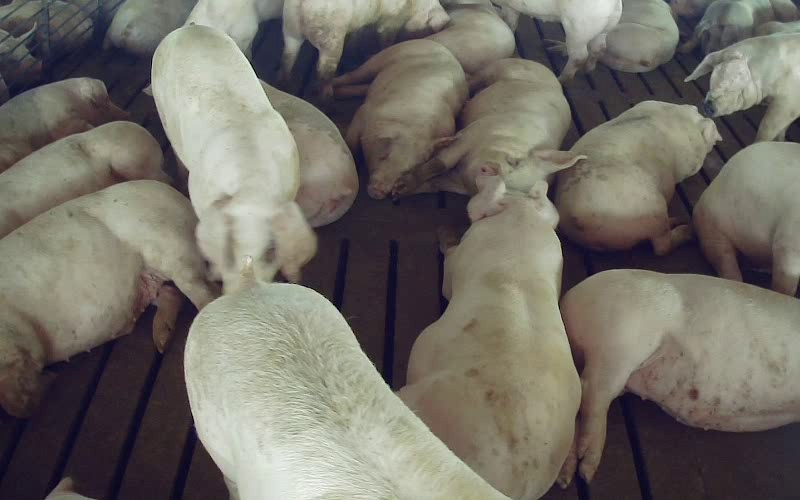pig: (185, 258, 505, 499), (399, 176, 580, 499), (560, 270, 799, 484), (0, 180, 213, 416), (152, 25, 315, 292), (394, 58, 583, 194), (555, 101, 720, 254), (327, 40, 467, 198), (0, 121, 168, 237), (693, 142, 799, 295), (282, 0, 448, 79), (685, 33, 799, 141), (0, 77, 127, 172), (492, 0, 621, 81), (679, 0, 799, 54), (428, 0, 514, 73), (599, 0, 678, 72), (103, 0, 196, 55)
